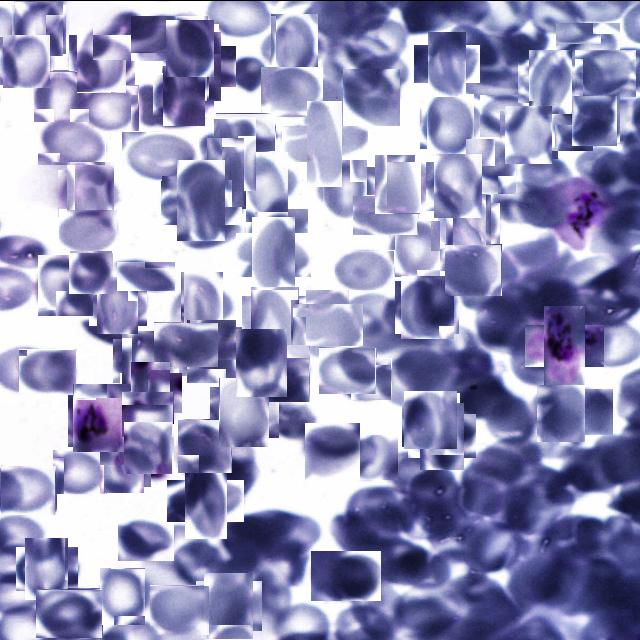difficult: (534, 314, 595, 376)
red blood cell: (169, 167, 234, 232), (294, 112, 356, 174), (120, 131, 198, 180), (176, 470, 236, 530), (244, 224, 304, 284), (214, 382, 274, 442), (232, 332, 292, 392), (131, 14, 209, 60), (311, 550, 381, 600), (265, 18, 324, 77), (398, 278, 457, 336), (36, 256, 94, 314), (206, 124, 264, 182), (252, 343, 310, 401), (200, 576, 258, 634), (36, 588, 103, 638), (72, 31, 130, 88), (247, 290, 304, 348), (429, 157, 486, 214), (343, 68, 400, 125), (182, 322, 240, 378), (238, 158, 296, 214), (38, 117, 106, 164), (556, 21, 621, 70), (63, 164, 119, 220), (300, 296, 356, 352), (414, 407, 470, 463), (403, 391, 459, 447), (305, 422, 360, 479), (261, 66, 323, 116), (178, 201, 242, 249), (174, 38, 229, 93), (424, 96, 478, 152), (150, 584, 210, 634), (575, 49, 636, 98), (445, 243, 502, 295), (154, 321, 219, 366), (174, 276, 228, 330), (464, 138, 518, 192), (442, 198, 496, 252), (178, 418, 232, 472), (198, 144, 252, 198), (524, 54, 578, 108), (34, 70, 90, 122), (553, 387, 614, 434), (534, 385, 587, 439), (246, 208, 308, 254), (319, 162, 372, 215), (164, 21, 217, 74), (502, 108, 556, 160), (21, 542, 74, 594), (1, 464, 56, 514), (318, 346, 376, 393), (118, 334, 170, 386), (158, 69, 210, 121), (421, 37, 473, 89), (372, 157, 424, 209), (19, 348, 77, 394), (97, 570, 148, 622), (352, 194, 418, 234), (392, 222, 443, 273), (97, 438, 148, 489), (14, 2, 64, 54), (83, 84, 139, 130), (1, 36, 52, 86), (93, 9, 144, 59), (126, 367, 176, 418), (123, 422, 173, 473), (59, 208, 118, 250), (92, 280, 142, 329), (344, 434, 398, 479), (118, 517, 174, 560), (335, 249, 395, 289), (122, 390, 174, 436), (52, 449, 106, 493), (570, 95, 618, 144), (337, 357, 392, 399), (216, 112, 276, 150), (548, 102, 594, 148), (480, 94, 528, 136), (69, 250, 112, 294), (117, 260, 176, 290)
trophozoite: (546, 175, 609, 252), (70, 386, 134, 448)
